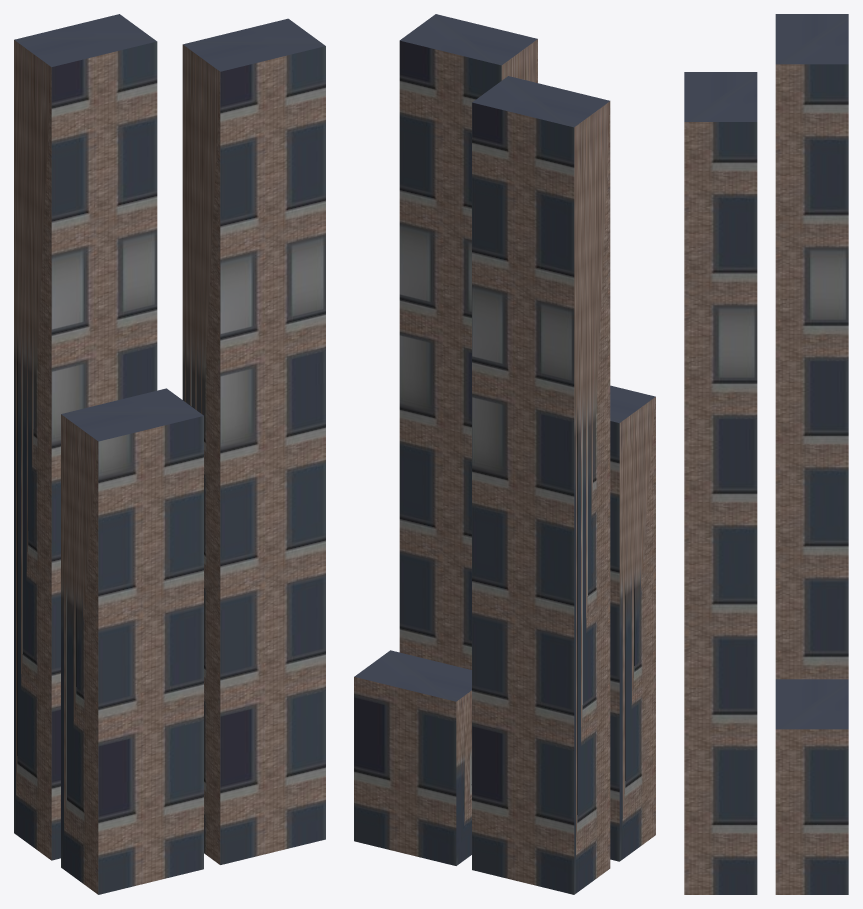
Rendered from block_22.obj.
The picture shows the model from 3 angles, left to right: view 1: azimuth 30°, elevation 25°; view 2: azimuth 150°, elevation 25°; view 3: azimuth 270°, elevation 25°; orthographic projection. The views are drawn at different scales.
Parts seen in each view (by area): view 1: b3, b0, b1; view 2: b0, b3, b2, b1; view 3: b3, b0, b2.
Part boxes in pixels (x1,y1,x2,y2): b3: [182, 18, 325, 864]; b0: [14, 14, 157, 860]; b1: [61, 388, 203, 894]; b0: [472, 76, 610, 894]; b3: [399, 14, 537, 669]; b2: [354, 650, 471, 865]; b1: [610, 385, 655, 861]; b3: [684, 72, 757, 894]; b0: [775, 14, 848, 679]; b2: [775, 679, 848, 894].
Bounding box in the file's own units: 4.2 × 14 × 2.7.
